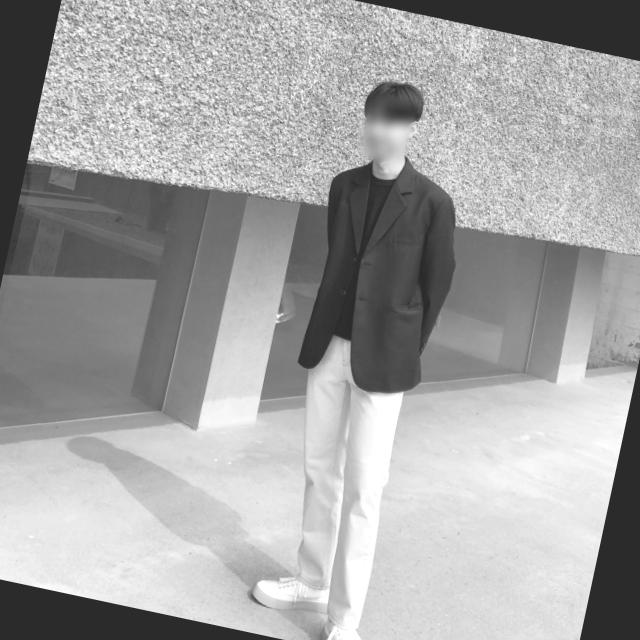blazer: (289, 149, 473, 403)
cottonpants: (258, 323, 420, 632)
